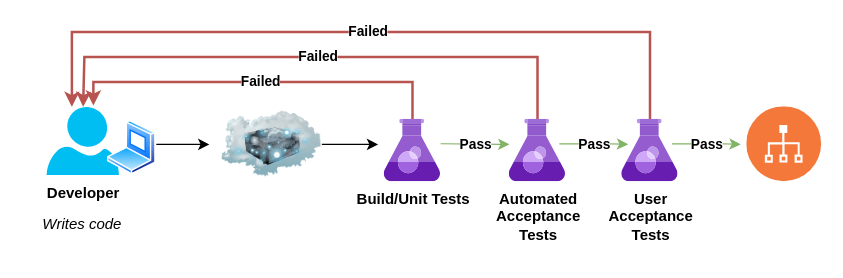
This 843x278 diagram has some shape labels left out. Each missing label, with the box of its shape:
Release: (746, 106, 821, 181)
Version Control System: (221, 94, 321, 194)
